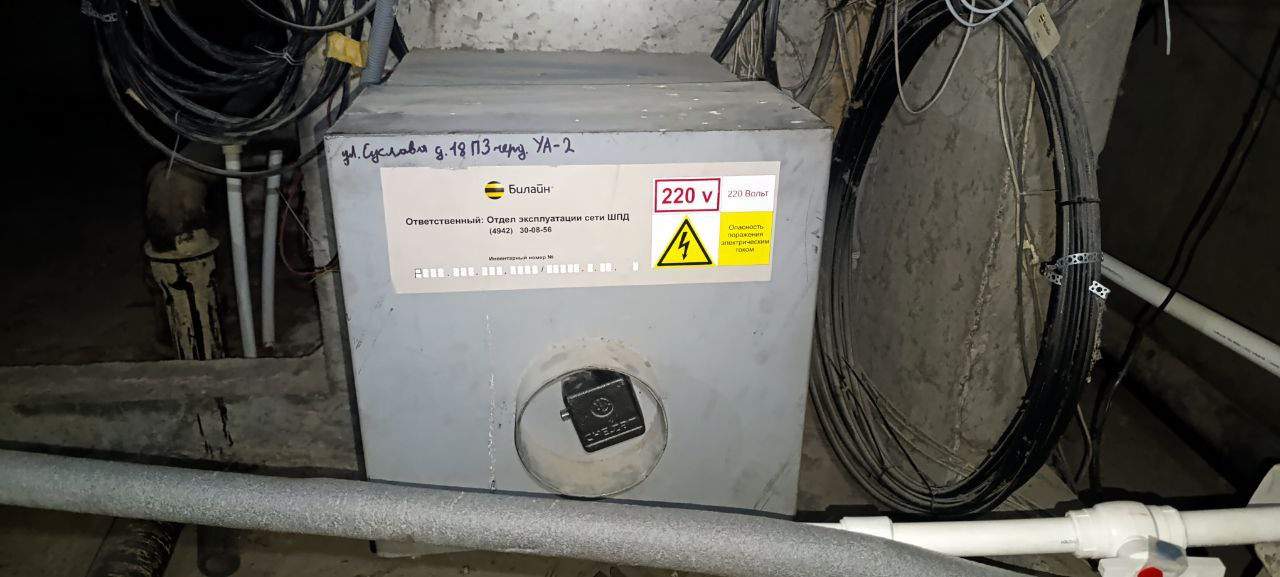shta-9: (313, 39, 844, 516)
